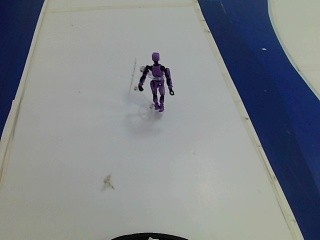pedestrian: (136, 49, 173, 116)
